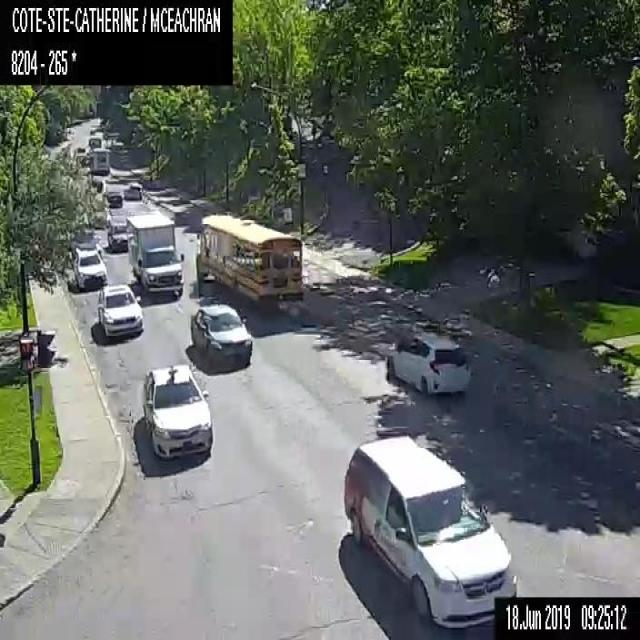bus: (195, 211, 304, 308)
vehicle: (342, 431, 517, 629), (142, 362, 212, 462), (384, 330, 472, 394), (125, 211, 184, 295), (190, 302, 252, 368), (97, 283, 142, 338), (74, 248, 106, 286), (107, 221, 128, 249), (92, 147, 109, 173), (125, 182, 142, 200), (107, 190, 121, 207), (88, 136, 101, 152), (74, 145, 88, 157)
